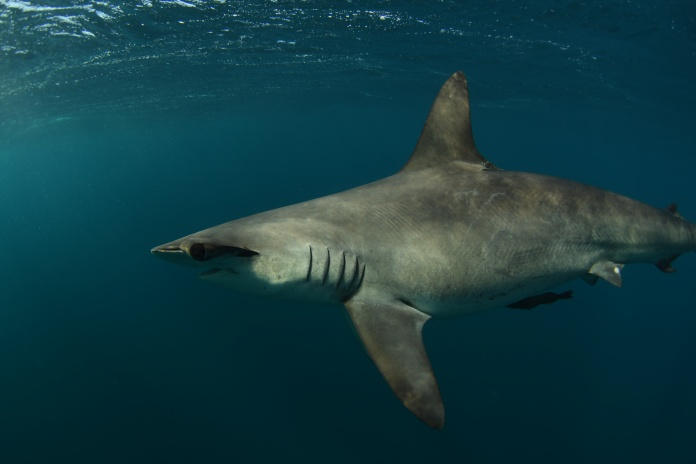Hammer: (137, 62, 696, 438)
